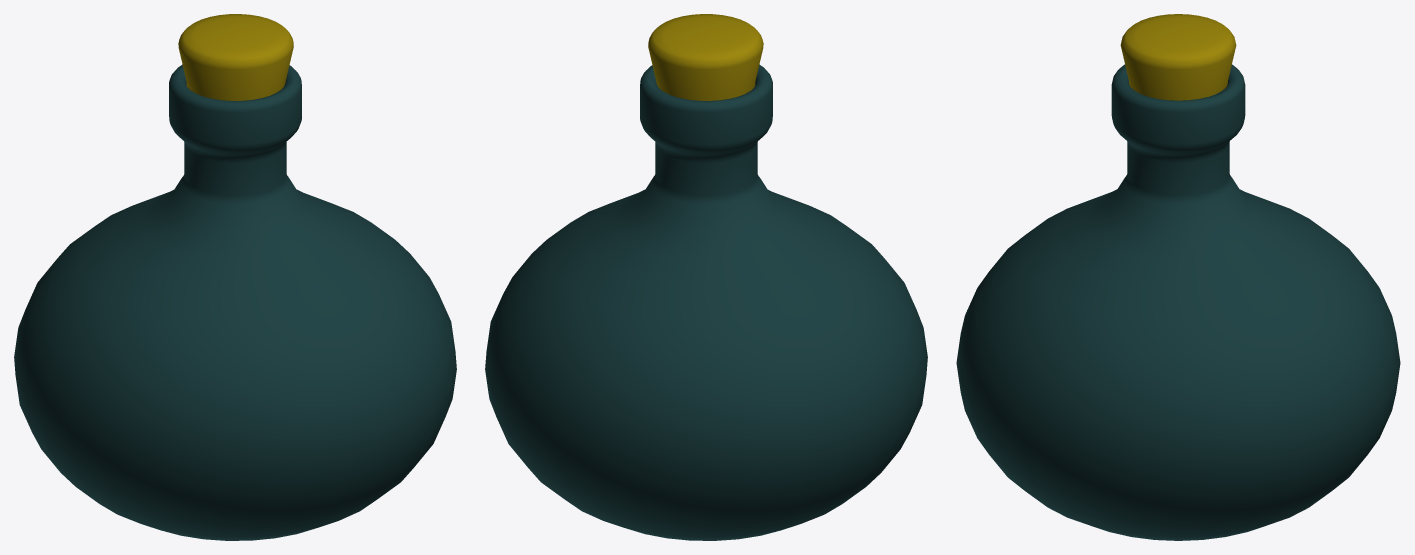
The model's file is posionnn.fbx.
The picture shows the model from 3 angles, left to right: view 1: azimuth 30°, elevation 25°; view 2: azimuth 150°, elevation 25°; view 3: azimuth 270°, elevation 25°; orthographic projection.
Visible parts, largest first — view 1: Bottle Cap.001; view 2: Bottle Cap.001; view 3: Bottle Cap.001.
Boxes of the visible parts, x1,y1,x2,y2 form: Bottle Cap.001: (14,14,456,540); Bottle Cap.001: (485,14,927,540); Bottle Cap.001: (956,14,1400,540).
Bounding box in the file's own units: 558 × 636 × 558.
Materials: 2 (1 with a texture image).
